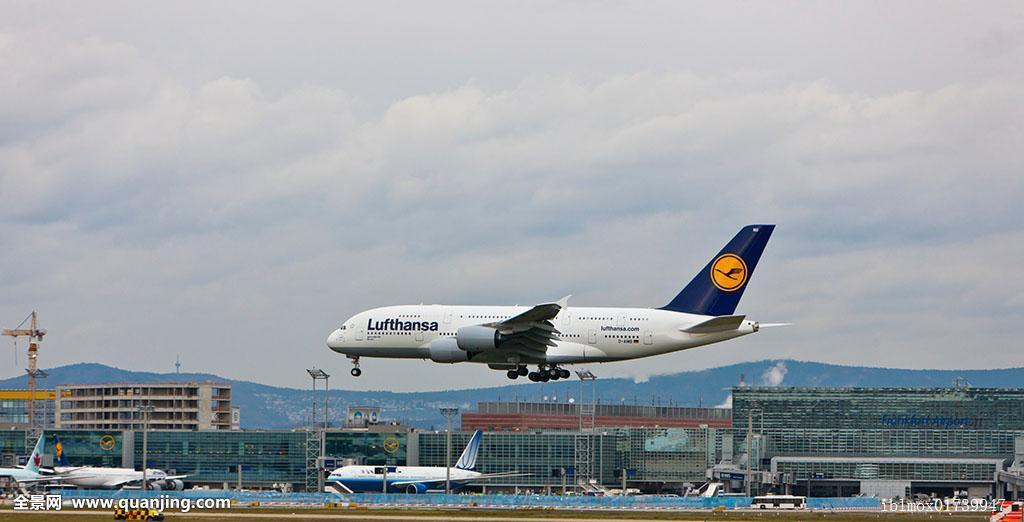airplane: (325, 220, 785, 381)
